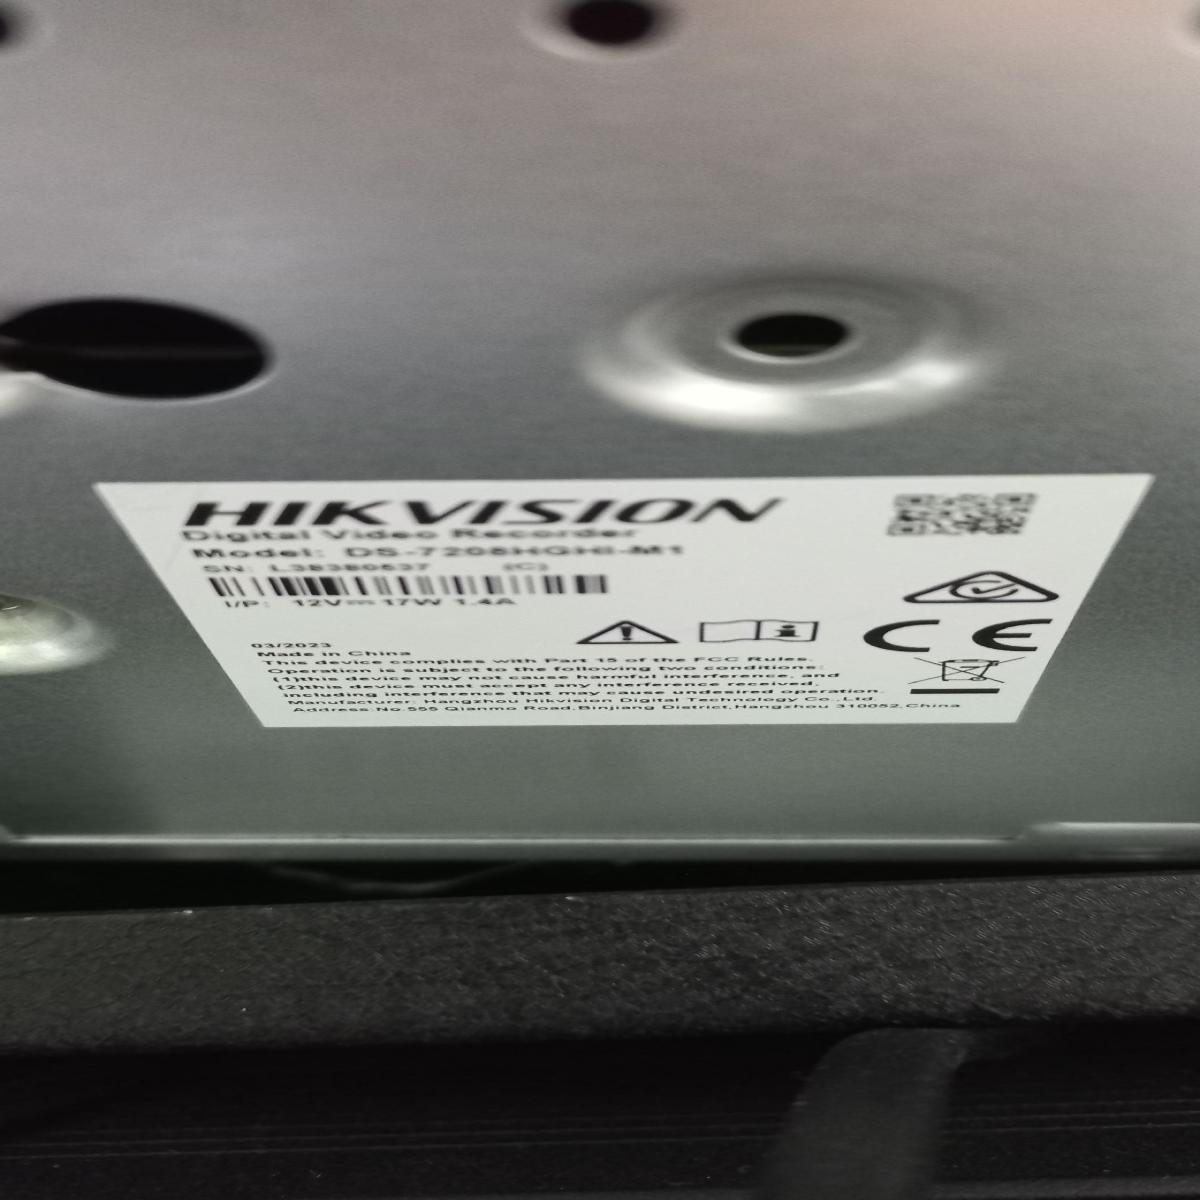Barcode: (196, 569, 656, 602)
Label: (123, 478, 1155, 723)
